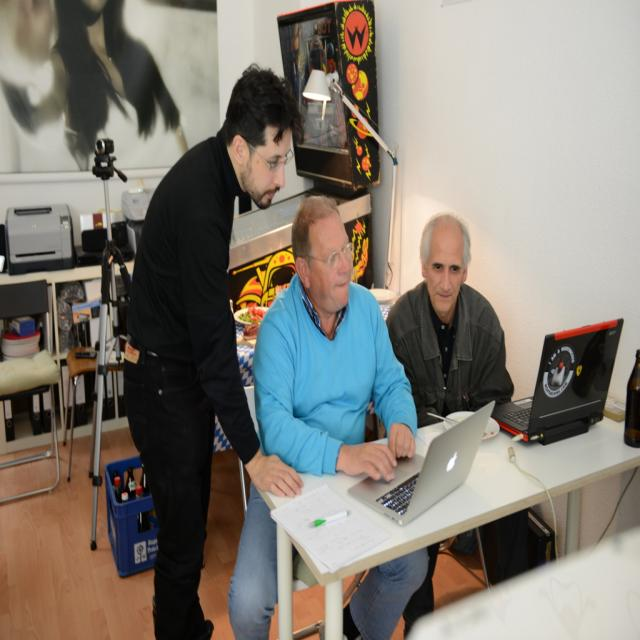chair: (0, 279, 63, 503)
desk: (265, 398, 627, 624)
laptop: (346, 404, 494, 526), (490, 318, 626, 444)
person: (123, 64, 307, 640), (253, 195, 418, 482), (386, 212, 514, 424)
